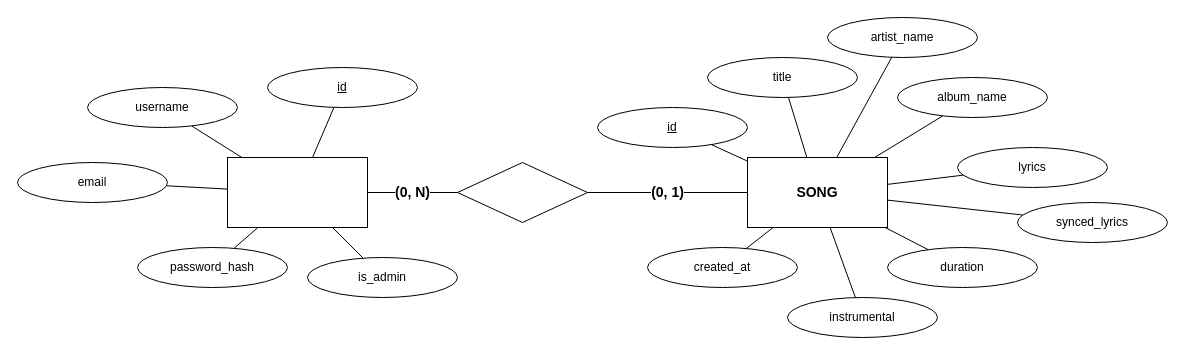
Image size: 1185x355. Some labels were removed from this diagram. The centre of each missing label's shape, as x and y in pixels:
"Pubblica" belongs at point (522, 192).
"USER" belongs at point (297, 192).
